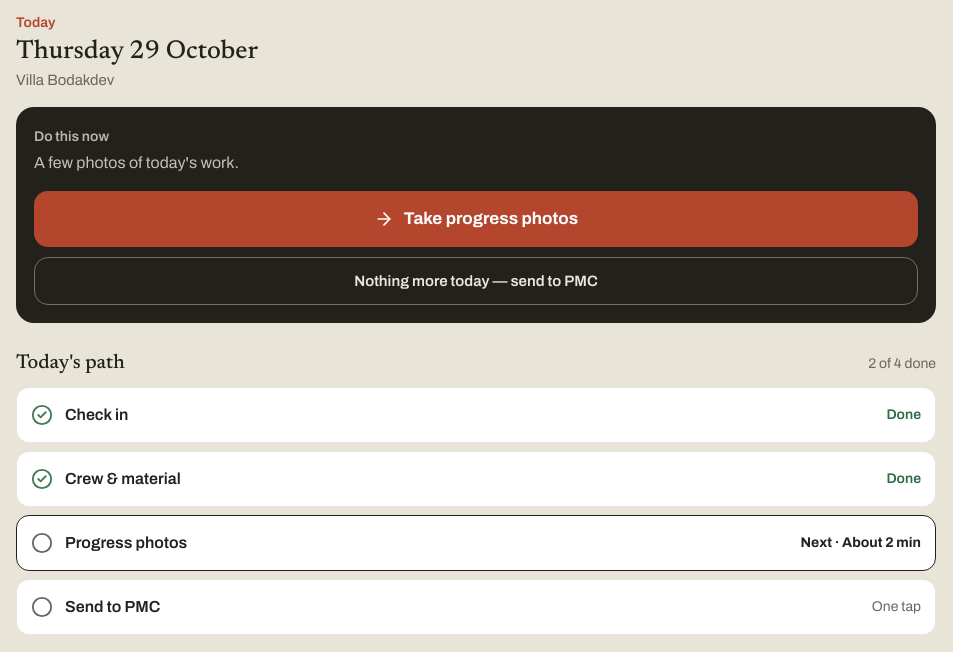
U1 — the crew step, one trade at a time › two rows with the same trade text: each question edits its own row
This screenshot has width=953, height=652.
Click the button with test id "today-step-crew" at [123, 479], box [16,451,936,507]
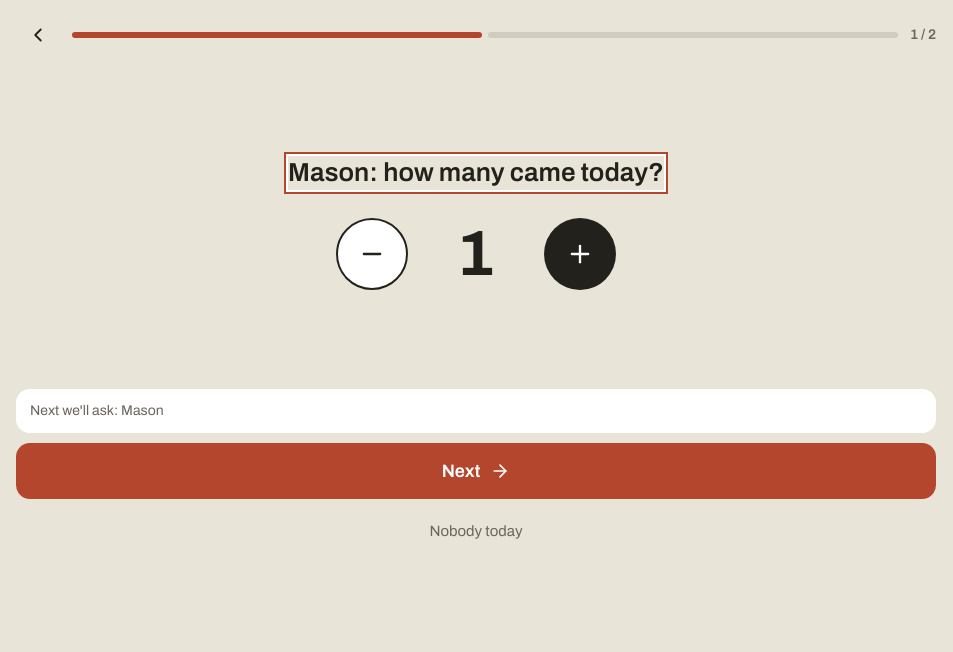
Click the button with test id "crew-next" at [476, 471], box [16,443,936,499]
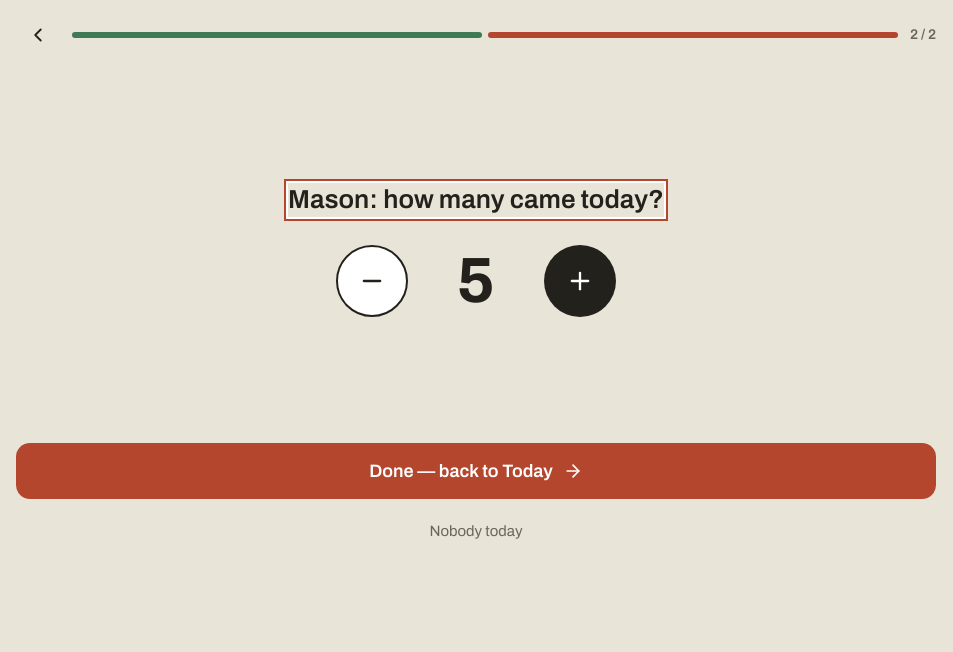
Now the text with test id "crew-count" reads "5", box [457,246,495,315]
Click the button with test id "crew-more" at [580, 281], box [544,245,616,317]
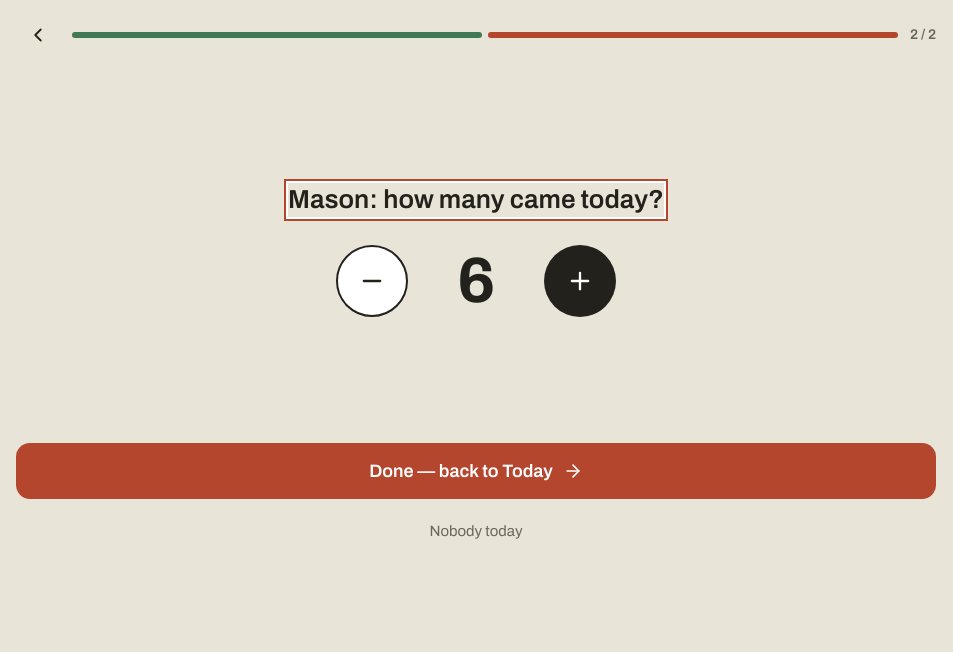
Now the text with test id "crew-count" reads "6", box [457,246,495,315]
